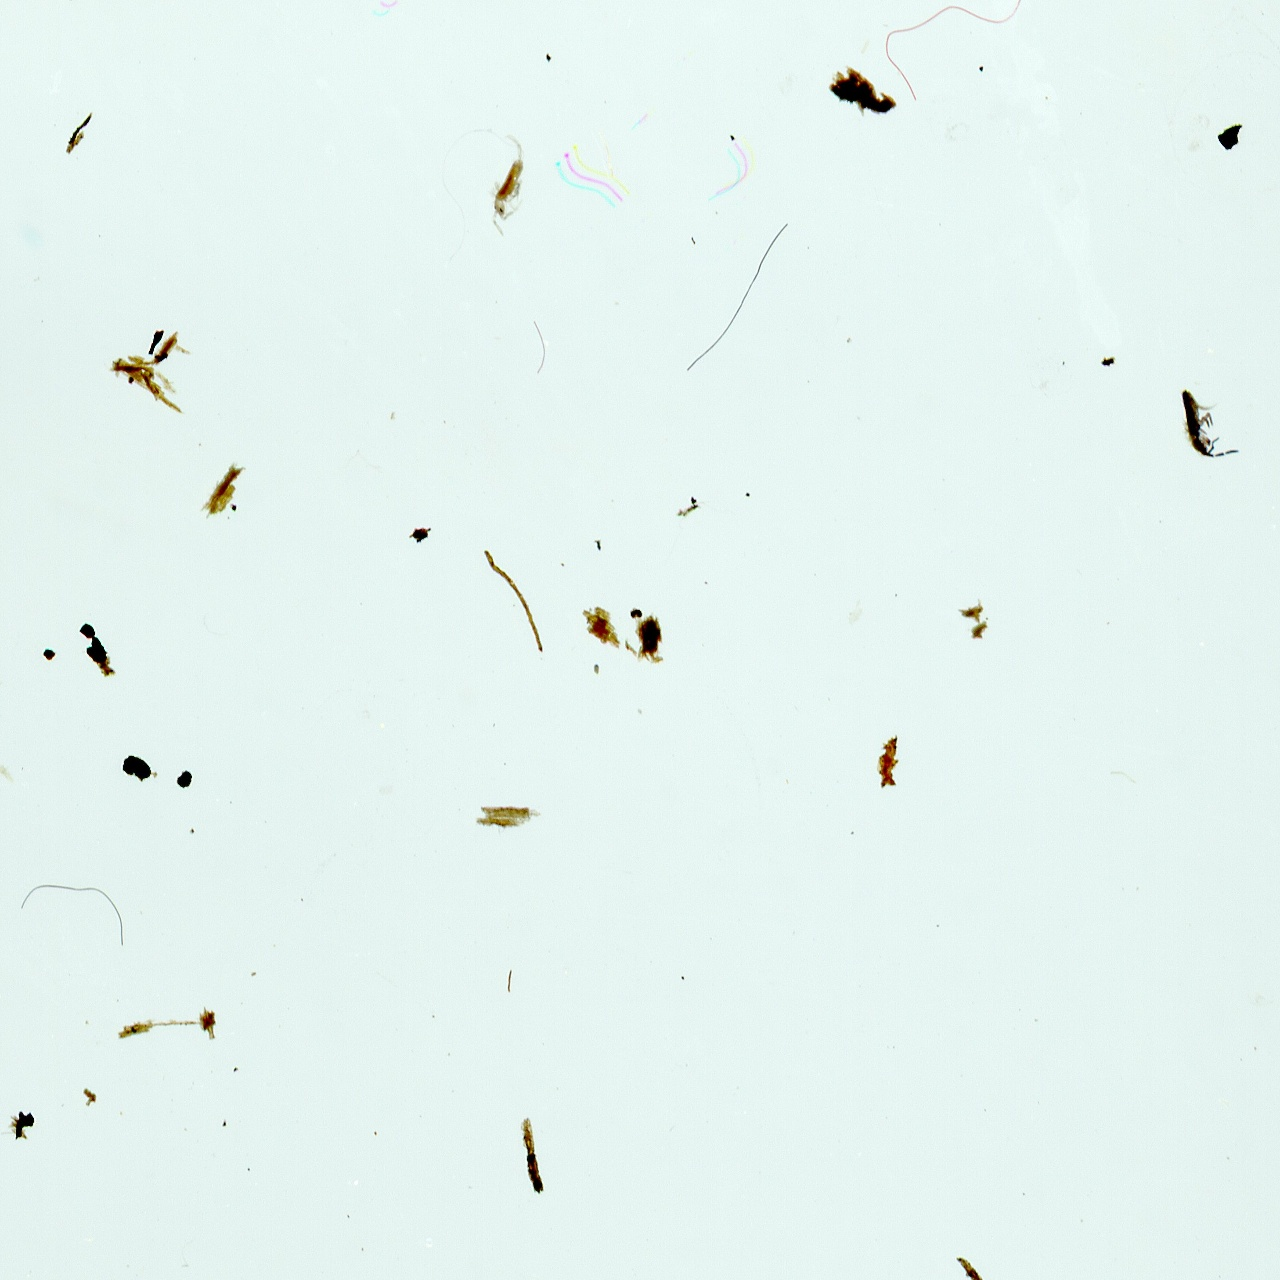arthropod: (472, 127, 544, 250), (1167, 373, 1247, 474)
